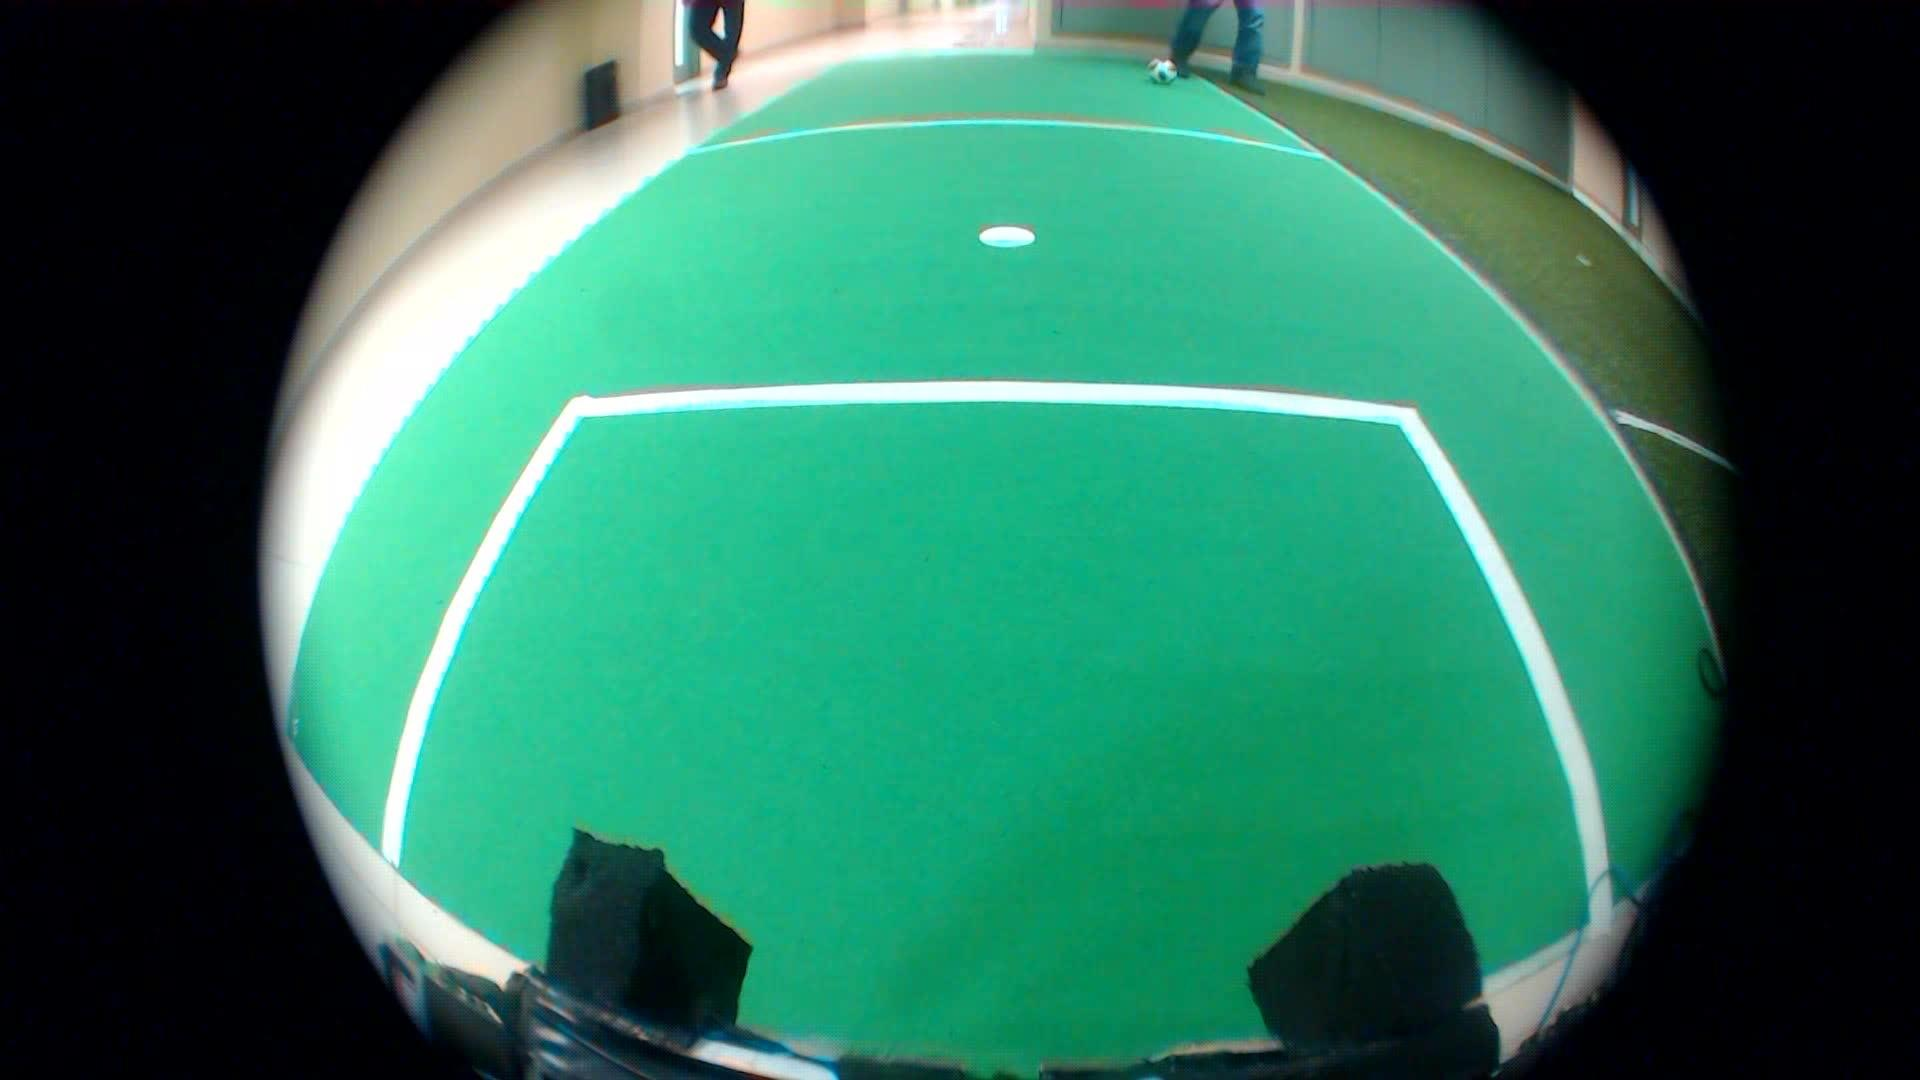ball: (1139, 49, 1174, 91)
